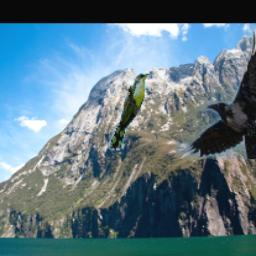Crow: (176, 25, 256, 159)
Cuckoo: (110, 73, 151, 150)
